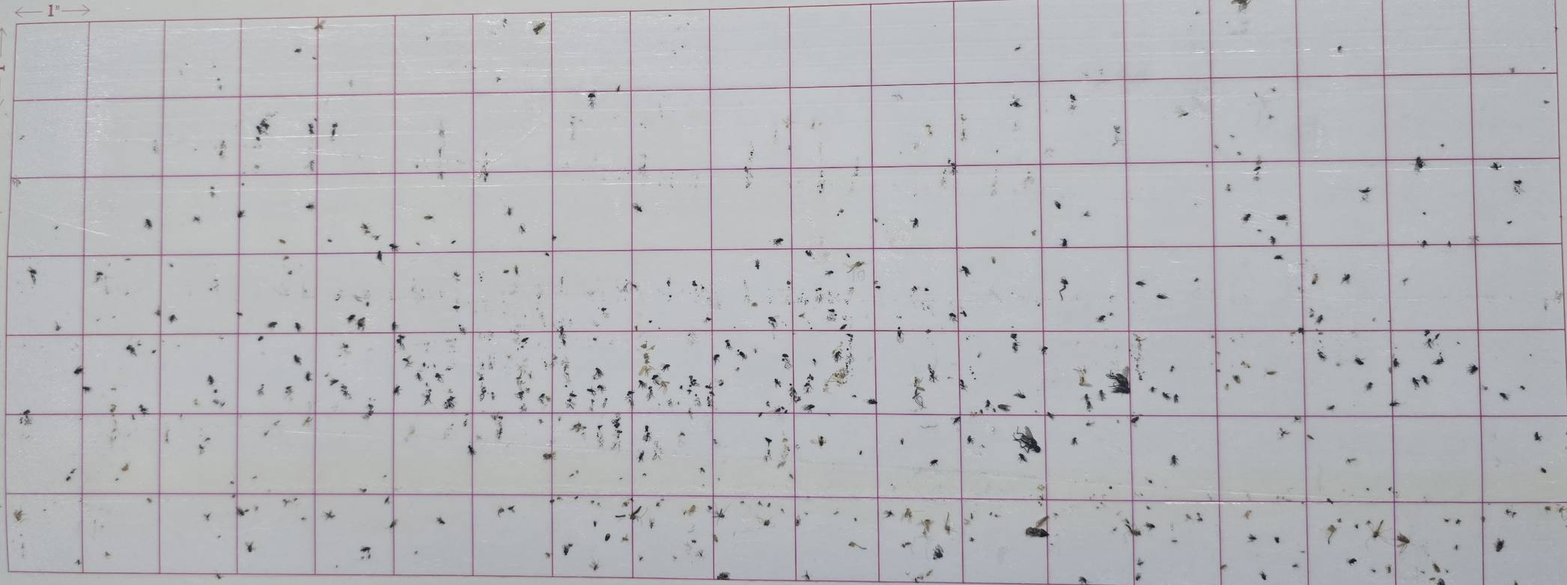fly: (1009, 425, 1046, 453), (1110, 368, 1140, 400), (1024, 514, 1058, 542)
test: (522, 15, 550, 37), (910, 375, 927, 411), (1394, 527, 1415, 555), (1409, 150, 1432, 172), (940, 509, 958, 537), (19, 260, 41, 282), (926, 542, 947, 565), (1122, 519, 1145, 540), (1074, 366, 1094, 390), (1078, 395, 1102, 413), (846, 259, 870, 277), (137, 211, 159, 230), (1466, 359, 1488, 378), (846, 537, 870, 554), (462, 441, 481, 462), (1055, 276, 1070, 302), (1325, 522, 1340, 547), (120, 340, 142, 357), (1529, 428, 1550, 445), (1488, 157, 1505, 178), (539, 449, 560, 466), (1095, 385, 1116, 402), (1241, 208, 1260, 226), (627, 506, 646, 524), (387, 238, 404, 258), (288, 350, 305, 370), (1370, 520, 1387, 540), (1340, 453, 1361, 469), (902, 504, 918, 525), (1009, 331, 1023, 355), (629, 198, 646, 217), (582, 88, 601, 105), (1426, 557, 1445, 574), (1338, 269, 1355, 288), (1314, 346, 1333, 363), (1035, 342, 1054, 359), (232, 208, 253, 223), (568, 421, 589, 436), (1494, 387, 1512, 404), (1048, 195, 1065, 213), (1351, 352, 1368, 370), (234, 503, 252, 520), (1007, 94, 1026, 110), (352, 316, 372, 331), (558, 542, 578, 557), (925, 365, 940, 385), (1132, 275, 1149, 292), (814, 432, 831, 449), (865, 393, 882, 410), (202, 370, 219, 387), (322, 507, 339, 524), (1263, 365, 1280, 382), (1494, 537, 1510, 555), (1275, 208, 1291, 226), (918, 517, 934, 535), (303, 122, 319, 140), (301, 200, 320, 215), (1269, 249, 1288, 264), (1357, 181, 1376, 196), (1245, 529, 1260, 548), (958, 262, 973, 281), (380, 492, 395, 511), (1175, 107, 1194, 122), (1074, 572, 1095, 585), (789, 382, 802, 403), (947, 410, 964, 426), (11, 508, 27, 525), (92, 267, 110, 282), (391, 334, 409, 349), (778, 352, 793, 370), (986, 508, 1004, 523), (1013, 449, 1033, 462), (354, 542, 374, 555), (384, 518, 404, 531), (804, 374, 817, 394), (189, 211, 204, 228), (769, 234, 786, 249), (1153, 290, 1170, 305), (752, 256, 767, 273), (1265, 234, 1282, 249), (432, 514, 449, 529), (290, 318, 305, 335), (455, 322, 470, 339), (714, 569, 732, 583), (306, 156, 318, 177), (421, 211, 440, 224), (962, 432, 981, 445), (1387, 395, 1402, 411), (830, 349, 846, 364), (1409, 376, 1423, 393), (1144, 520, 1162, 533), (1510, 176, 1525, 191), (1516, 380, 1531, 395), (1256, 567, 1271, 582), (1271, 531, 1286, 546), (1308, 271, 1323, 286), (633, 449, 648, 464), (444, 395, 459, 410), (311, 21, 328, 34), (1537, 462, 1550, 479), (71, 365, 88, 378), (1009, 389, 1026, 402), (771, 376, 784, 393), (1168, 449, 1179, 469), (255, 380, 266, 400), (422, 389, 434, 407), (243, 540, 258, 554), (708, 350, 722, 365), (766, 314, 781, 328), (610, 416, 624, 431), (1278, 426, 1293, 440), (1292, 325, 1307, 339), (371, 249, 387, 262), (51, 320, 67, 333), (801, 401, 817, 414), (894, 325, 907, 341), (302, 414, 315, 430), (1044, 408, 1056, 425), (364, 401, 375, 419), (908, 213, 923, 226), (1325, 402, 1340, 415), (1346, 554, 1361, 567), (1058, 234, 1071, 249), (1069, 434, 1082, 449), (1303, 430, 1318, 443), (1127, 413, 1142, 426), (1230, 372, 1245, 385), (254, 120, 267, 135), (1250, 163, 1265, 176), (397, 355, 413, 367), (1555, 503, 1567, 519), (1130, 333, 1149, 343), (1314, 310, 1325, 327), (503, 206, 517, 219), (1321, 494, 1335, 507), (357, 483, 371, 496), (713, 510, 727, 523), (1363, 379, 1376, 393), (1505, 507, 1518, 521), (1434, 576, 1454, 585), (1097, 310, 1112, 322), (899, 538, 914, 550), (1431, 355, 1446, 367), (167, 312, 180, 325), (135, 402, 148, 415), (120, 463, 133, 476), (267, 318, 280, 331), (413, 370, 426, 383), (480, 169, 493, 182), (341, 339, 353, 353), (433, 371, 445, 385), (592, 365, 604, 379), (722, 336, 734, 350), (688, 375, 700, 389), (1291, 411, 1305, 423), (1384, 563, 1396, 577), (1391, 354, 1403, 368), (1418, 236, 1430, 250), (1333, 43, 1347, 55), (106, 403, 120, 415), (515, 223, 530, 234), (760, 516, 775, 527), (801, 247, 816, 258), (736, 348, 751, 359), (391, 383, 402, 398), (61, 472, 76, 483), (998, 402, 1013, 413), (947, 157, 958, 172), (477, 387, 488, 402), (928, 456, 941, 468), (450, 269, 463, 281), (360, 220, 372, 233), (411, 237, 424, 249), (492, 427, 504, 440), (958, 377, 969, 391), (290, 45, 307, 54), (141, 496, 156, 506), (882, 509, 897, 519), (1195, 510, 1205, 525), (1426, 336, 1436, 351), (1084, 418, 1096, 430), (1080, 208, 1092, 220), (1419, 372, 1432, 383), (1170, 393, 1183, 404), (1067, 90, 1080, 101), (303, 370, 314, 383), (800, 570, 813, 581), (1251, 89, 1264, 100), (328, 376, 342, 386), (340, 389, 354, 399), (329, 123, 339, 137), (493, 507, 507, 517), (661, 361, 676, 370), (1145, 382, 1157, 393), (511, 264, 522, 276), (197, 442, 209, 453), (102, 549, 114, 560), (153, 307, 164, 319), (504, 503, 516, 514), (537, 391, 548, 403), (585, 385, 597, 396), (946, 309, 958, 320), (73, 557, 85, 568), (1444, 239, 1456, 250), (1504, 217, 1515, 229), (1267, 84, 1279, 95), (1506, 66, 1518, 77), (835, 207, 846, 219), (344, 312, 357, 322), (589, 562, 602, 572), (777, 406, 790, 416), (262, 426, 272, 439), (967, 510, 977, 523), (491, 412, 505, 421), (689, 501, 698, 515), (837, 322, 851, 331), (1143, 477, 1157, 486), (603, 531, 614, 542), (1166, 361, 1177, 372), (388, 319, 399, 330), (742, 164, 753, 175), (762, 449, 773, 460), (1162, 389, 1170, 404), (501, 267, 511, 279), (630, 281, 640, 293), (558, 325, 568, 337), (638, 377, 648, 389), (685, 410, 697, 420), (1542, 502, 1552, 514), (50, 223, 62, 233), (1542, 96, 1552, 108), (21, 408, 35, 416), (107, 384, 121, 392), (79, 383, 90, 393), (543, 250, 554, 260), (362, 298, 372, 309), (650, 372, 661, 382), (646, 387, 656, 398), (796, 310, 807, 320), (1399, 276, 1409, 287), (1169, 537, 1180, 547), (1243, 508, 1253, 519), (1290, 562, 1301, 572), (272, 417, 283, 427), (1211, 142, 1222, 152), (1478, 513, 1488, 524), (518, 404, 529, 414), (217, 333, 227, 344), (13, 176, 23, 187), (519, 336, 531, 345), (285, 382, 294, 394), (595, 383, 607, 392), (625, 388, 637, 397), (990, 254, 999, 266), (558, 275, 567, 287), (280, 497, 292, 506), (252, 501, 261, 513), (202, 512, 212, 522), (255, 332, 265, 342), (210, 397, 220, 407), (420, 359, 430, 369), (493, 74, 503, 84), (517, 388, 527, 398), (712, 534, 722, 544), (842, 249, 852, 259), (814, 284, 824, 294), (562, 364, 572, 374), (123, 254, 133, 264), (1113, 124, 1123, 134), (449, 301, 460, 310), (549, 234, 560, 243), (203, 435, 214, 444), (215, 572, 226, 581), (566, 390, 577, 399), (436, 169, 445, 180), (824, 268, 835, 277), (689, 279, 700, 288), (1217, 563, 1228, 572), (17, 133, 26, 144), (1267, 112, 1278, 121), (190, 398, 201, 407), (639, 340, 648, 351), (276, 237, 288, 245), (615, 81, 622, 94), (736, 500, 749, 507), (794, 514, 801, 527), (234, 309, 244, 318), (476, 373, 486, 382), (547, 497, 557, 506), (764, 435, 773, 445), (647, 521, 656, 531), (712, 437, 721, 447), (910, 284, 919, 294), (923, 327, 933, 336), (1443, 517, 1452, 527), (1423, 328, 1432, 338), (250, 473, 260, 482), (533, 292, 543, 301), (642, 354, 652, 363), (1471, 233, 1480, 243), (448, 237, 459, 245), (598, 305, 609, 313), (755, 499, 766, 507), (703, 503, 714, 511), (827, 306, 838, 314), (1453, 543, 1464, 551), (1434, 331, 1442, 342), (300, 513, 308, 524), (162, 434, 170, 445), (217, 149, 226, 158), (678, 430, 687, 439), (784, 280, 793, 289), (1481, 384, 1490, 393), (251, 162, 260, 171), (1013, 44, 1023, 52), (282, 254, 292, 262), (112, 474, 122, 482), (665, 278, 673, 288), (592, 519, 600, 529), (643, 423, 651, 433), (960, 310, 970, 318), (983, 398, 991, 408), (1456, 517, 1464, 527), (209, 185, 219, 193), (1226, 132, 1237, 139), (616, 513, 627, 520), (167, 261, 175, 270), (149, 347, 157, 356), (698, 466, 707, 474), (597, 424, 606, 432), (636, 555, 644, 564), (756, 410, 765, 418), (812, 356, 820, 365), (764, 399, 773, 407), (873, 282, 882, 290), (1136, 559, 1145, 567), (1134, 574, 1143, 582), (1235, 149, 1244, 157), (872, 215, 880, 224), (129, 413, 137, 422), (333, 294, 341, 303), (371, 233, 381, 240), (561, 338, 568, 348), (545, 550, 552, 560), (897, 439, 907, 446), (845, 332, 855, 339), (1213, 368, 1223, 375), (752, 300, 759, 310), (620, 535, 628, 543), (685, 387, 693, 395), (590, 334, 598, 342), (975, 352, 983, 360), (1192, 276, 1200, 284), (413, 162, 421, 170), (463, 418, 471, 426), (380, 473, 388, 481), (414, 548, 422, 556), (1224, 186, 1232, 194), (1209, 332, 1217, 340), (705, 383, 714, 390), (717, 379, 724, 388), (631, 324, 640, 331), (653, 500, 662, 507), (689, 537, 698, 544), (681, 507, 688, 516), (672, 553, 679, 562), (285, 269, 295, 275), (230, 492, 238, 499), (573, 494, 580, 502), (697, 550, 704, 558), (779, 506, 786, 514), (923, 286, 930, 294), (850, 393, 857, 401), (968, 536, 975, 544), (1353, 524, 1361, 531), (818, 182, 826, 189), (644, 435, 652, 442), (209, 190, 216, 198), (640, 472, 649, 478), (444, 366, 453, 372), (1040, 494, 1046, 503), (706, 314, 711, 324), (326, 236, 333, 243), (734, 365, 741, 372), (789, 473, 796, 480), (857, 449, 864, 456), (991, 406, 998, 413), (589, 498, 596, 505), (699, 285, 706, 292), (312, 116, 319, 123), (208, 286, 215, 293), (668, 294, 676, 300), (706, 403, 715, 408), (1541, 64, 1546, 73), (567, 472, 574, 478), (647, 319, 654, 325), (766, 501, 772, 508), (852, 516, 858, 523), (686, 331, 693, 337), (491, 391, 497, 398), (881, 221, 888, 227), (826, 412, 832, 419), (1145, 505, 1152, 511), (528, 373, 534, 380), (602, 396, 608, 403), (639, 163, 644, 171), (240, 181, 245, 189), (212, 277, 220, 282), (518, 345, 526, 350), (230, 479, 236, 485), (979, 407, 985, 413), (617, 475, 623, 481), (480, 362, 486, 368), (753, 348, 759, 354), (1440, 143, 1446, 149), (1422, 210, 1428, 216), (678, 384, 683, 391), (432, 362, 437, 369), (506, 353, 511, 360), (1108, 484, 1113, 491), (515, 375, 522, 380), (590, 396, 595, 403), (538, 418, 543, 424), (731, 324, 737, 329), (809, 326, 814, 332), (1225, 382, 1230, 388), (1246, 364, 1251, 370), (1290, 339, 1295, 345), (1036, 302, 1041, 308), (575, 469, 580, 474), (834, 508, 839, 513), (1256, 228, 1261, 233), (1241, 361, 1246, 366), (1230, 338, 1235, 343), (597, 502, 601, 508), (1205, 162, 1209, 168), (212, 389, 218, 393), (558, 416, 562, 421), (125, 292, 129, 297), (657, 326, 662, 330), (818, 191, 824, 194), (424, 382, 428, 386), (1217, 351, 1221, 355)
